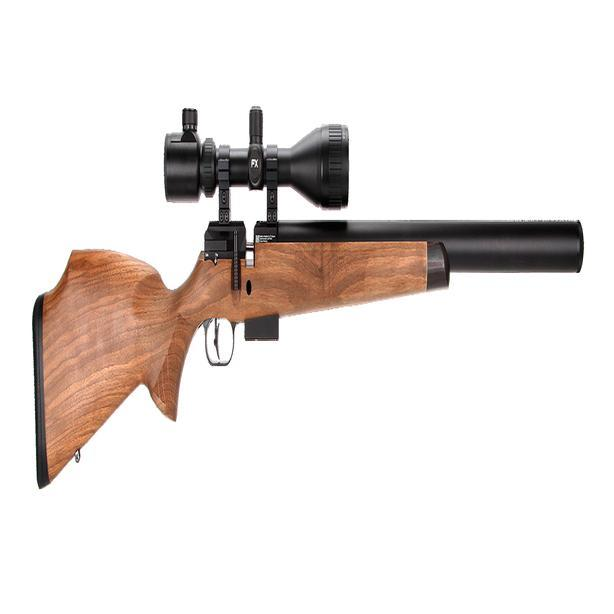Firearm: (13, 92, 599, 492)
